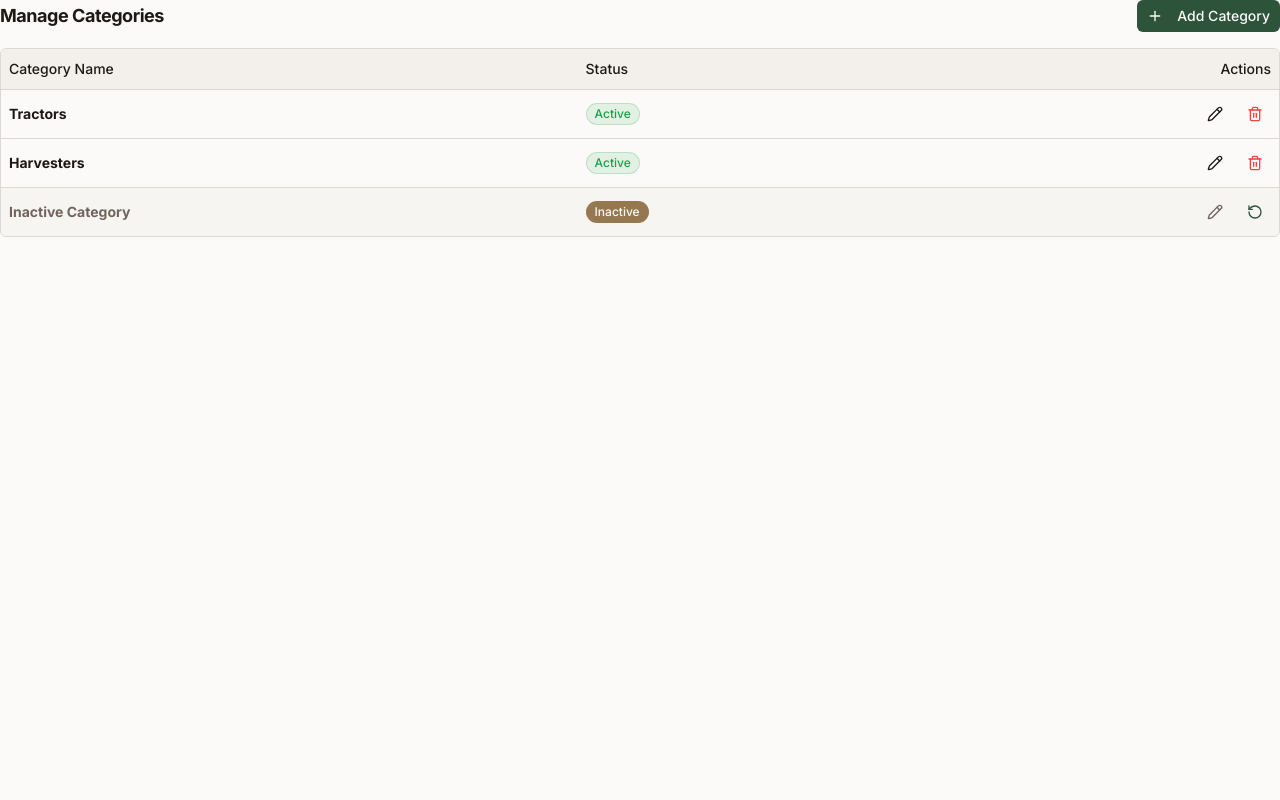
Scenario: CategoryManager › should open add dialog when Add Category button is clicked
The width and height of the screenshot is (1280, 800).
Step 1. Click the button "Add Category" → (1209,16), box x1=1137 y1=0 x2=1279 y2=32
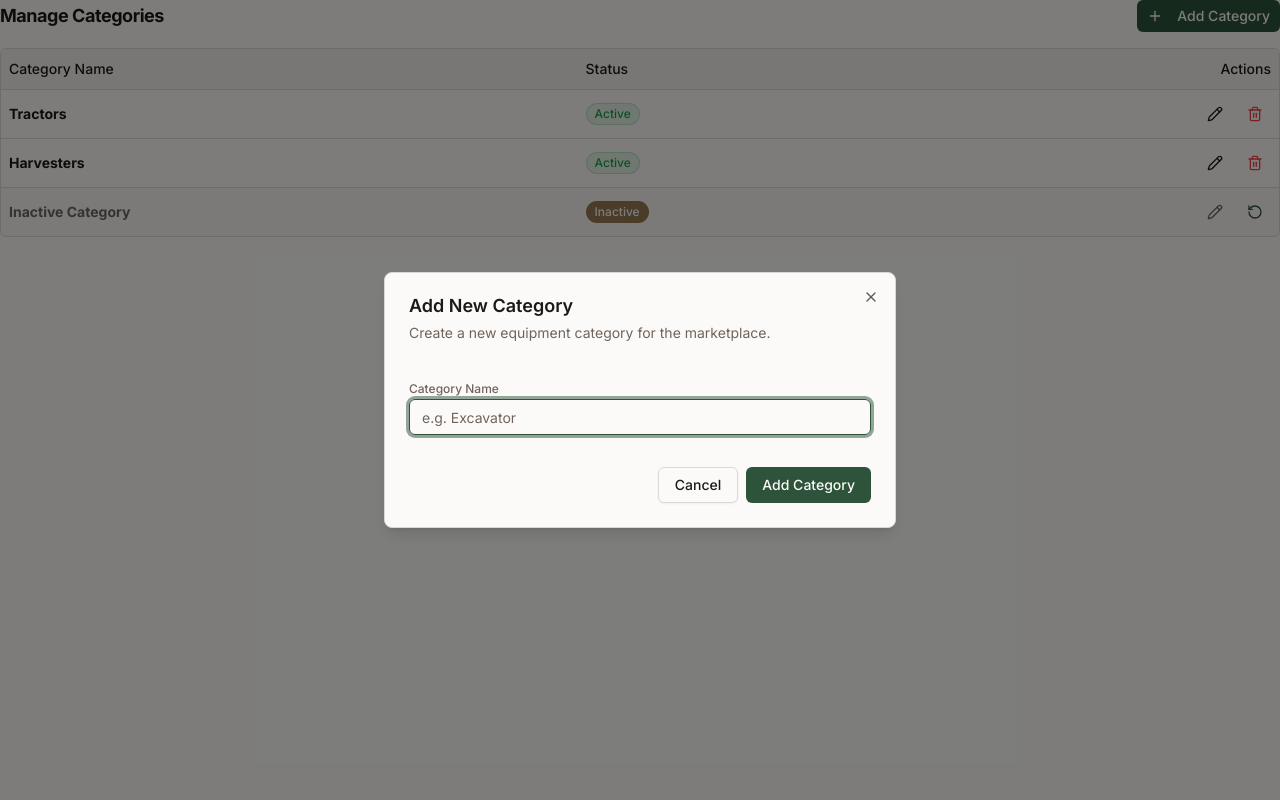
Expected: the heading "Add New Category" is shown, x1=409 y1=295 x2=573 y2=316
